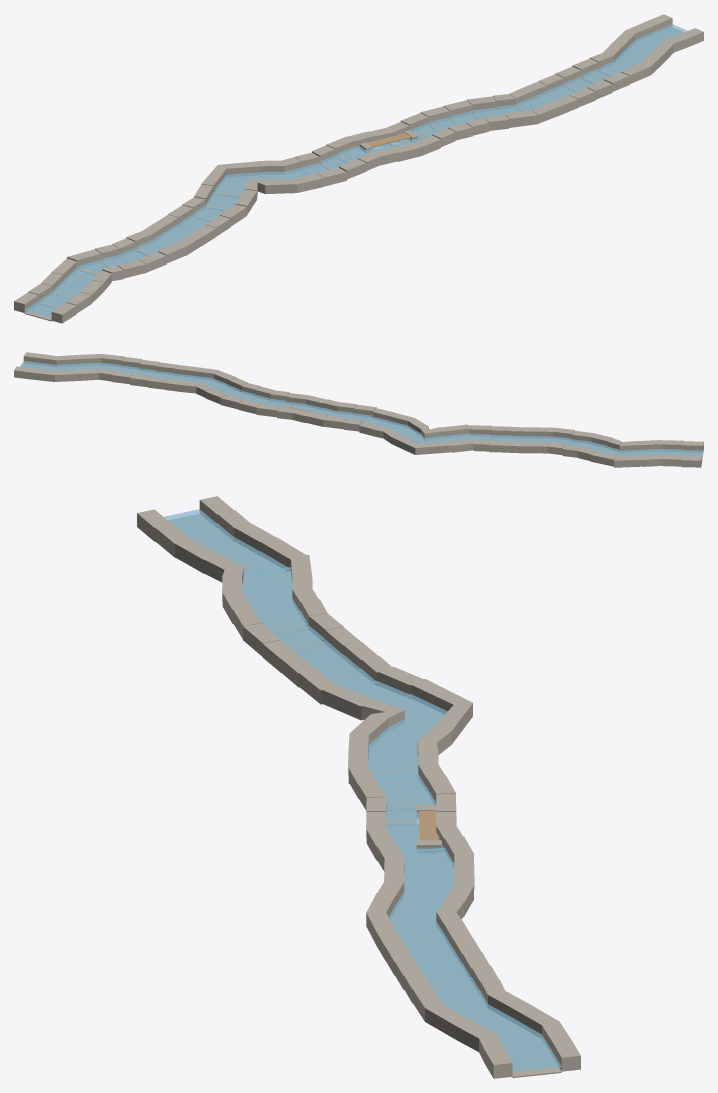
The model's file is creek.lod2.glb.
3 renders of one model, top to bottom at view 1: azimuth 30°, elevation 25°; view 2: azimuth 150°, elevation 25°; view 3: azimuth 270°, elevation 25°, orthographic. The views are drawn at different scales.
Bounding box in the file's own units: 77.72 × 2.31 × 24.66.
